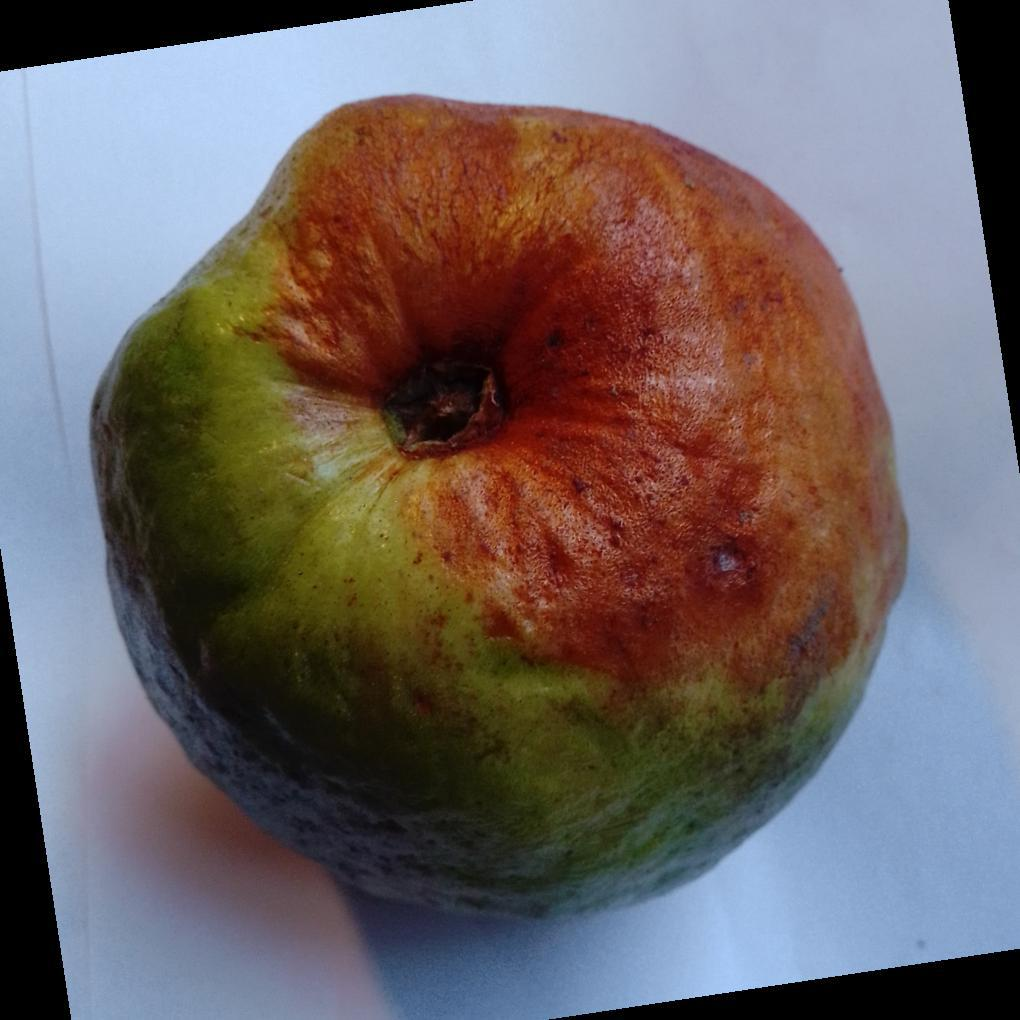FreshOrange: (87, 95, 911, 925)
